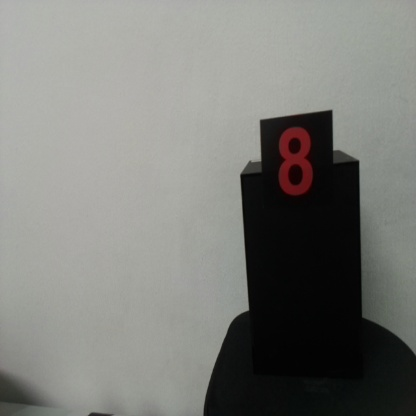id_8: (259, 120, 333, 223)
